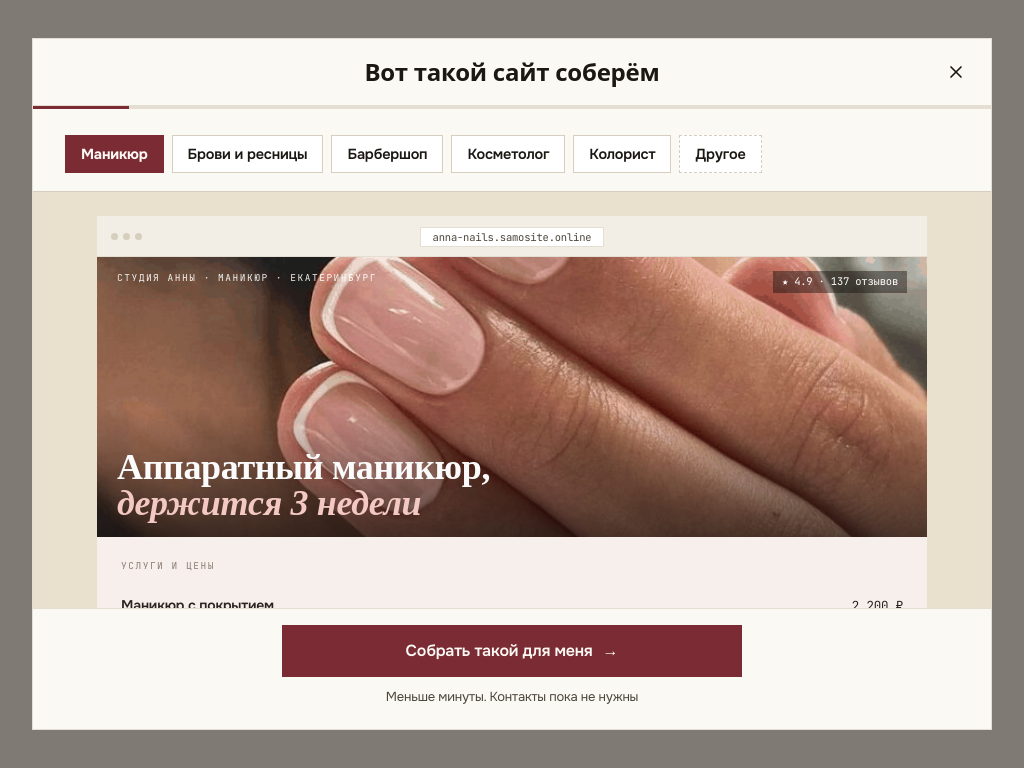
Test: Intake2 — шаг источника › переключение путей сохраняет ввод каждого пути
Click the button "Собрать такой для меня →" at (512,651), box [282,625,742,677]
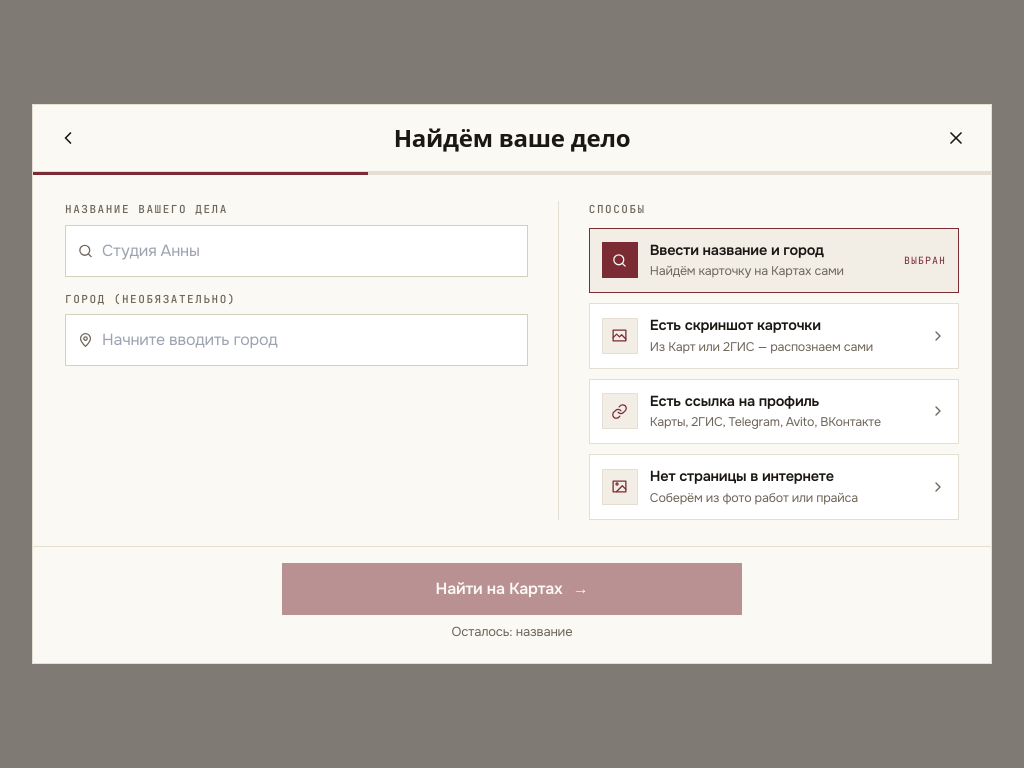
Type "Ноготочки у Ани" into the field with placeholder "Студия Анны" at (296,250), box [65,224,528,276]
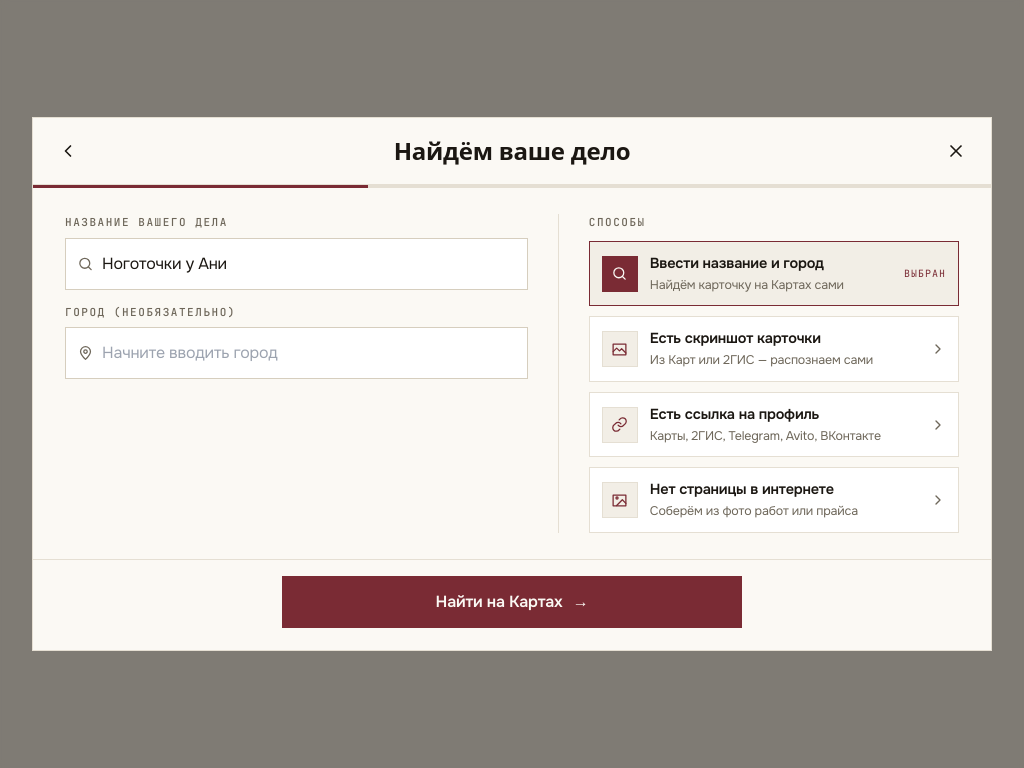
Click the button "Есть ссылка на профиль" at (774,425), box [589,392,959,457]
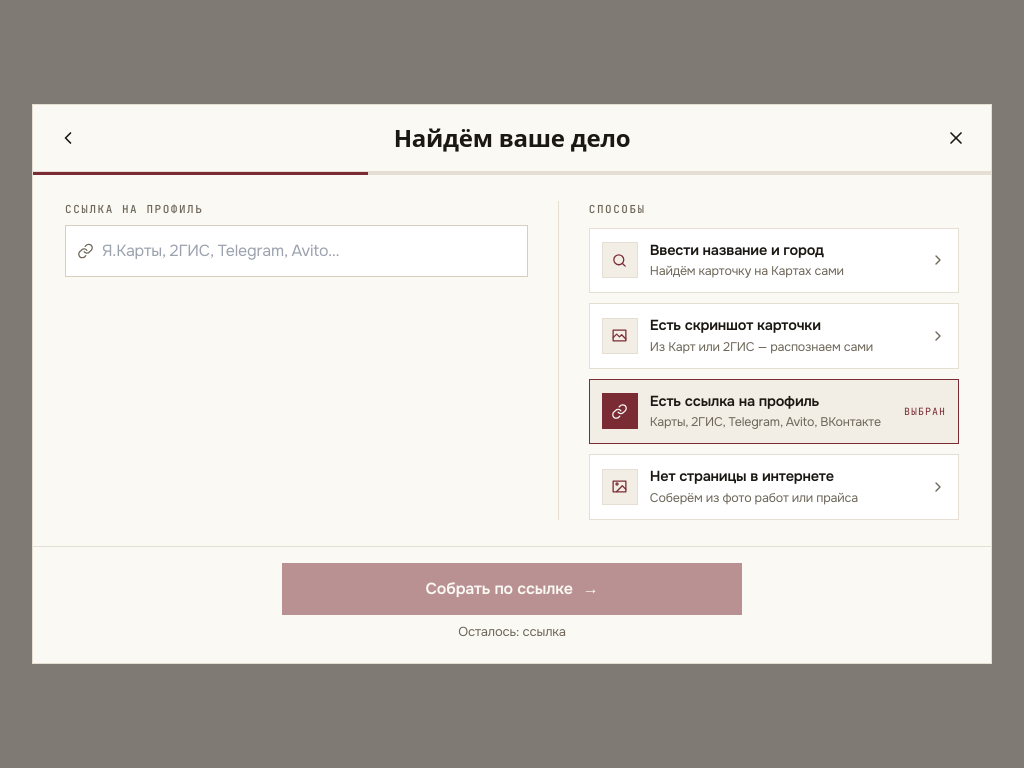
Type "https://yandex.ru/maps/org/1" into the field with placeholder "Я.Карты, 2ГИС, Telegram, Avito…" at (296,250), box [65,224,528,276]
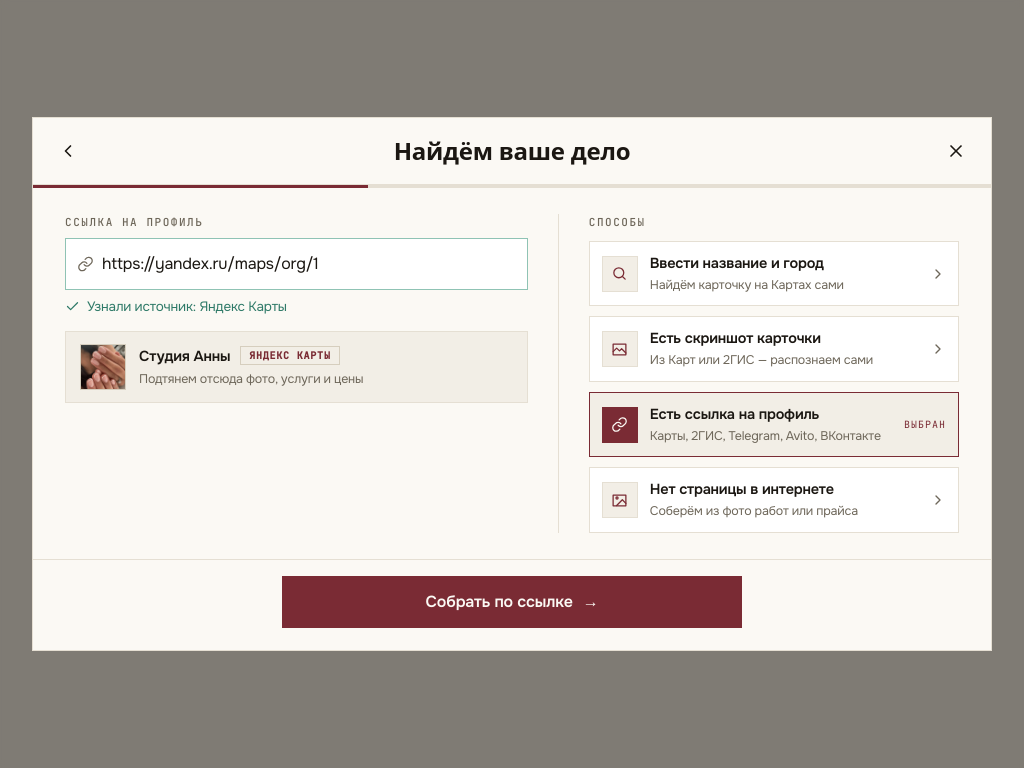
Click the button "Ввести название и город Найдём карточку на Картах сами" at (774,274), box [589,241,959,306]
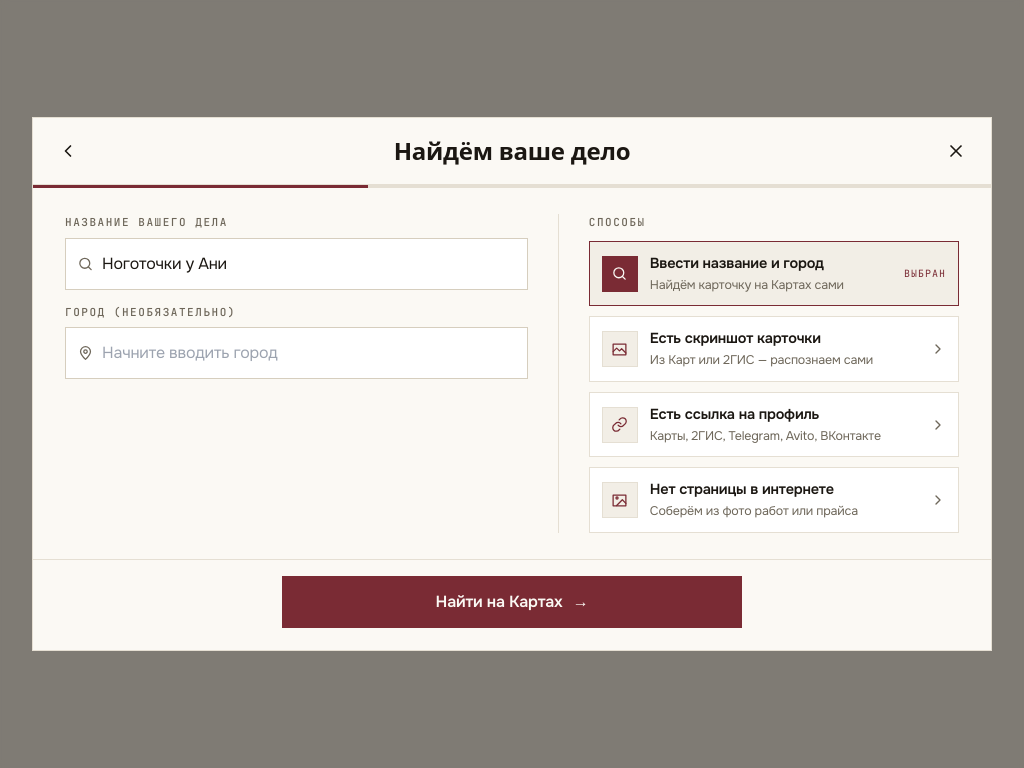
Check: the field with placeholder "Студия Анны" holds "Ноготочки у Ани", box [65,238,528,290]
Click the button "Есть ссылка на профиль" at (774,425), box [589,392,959,457]
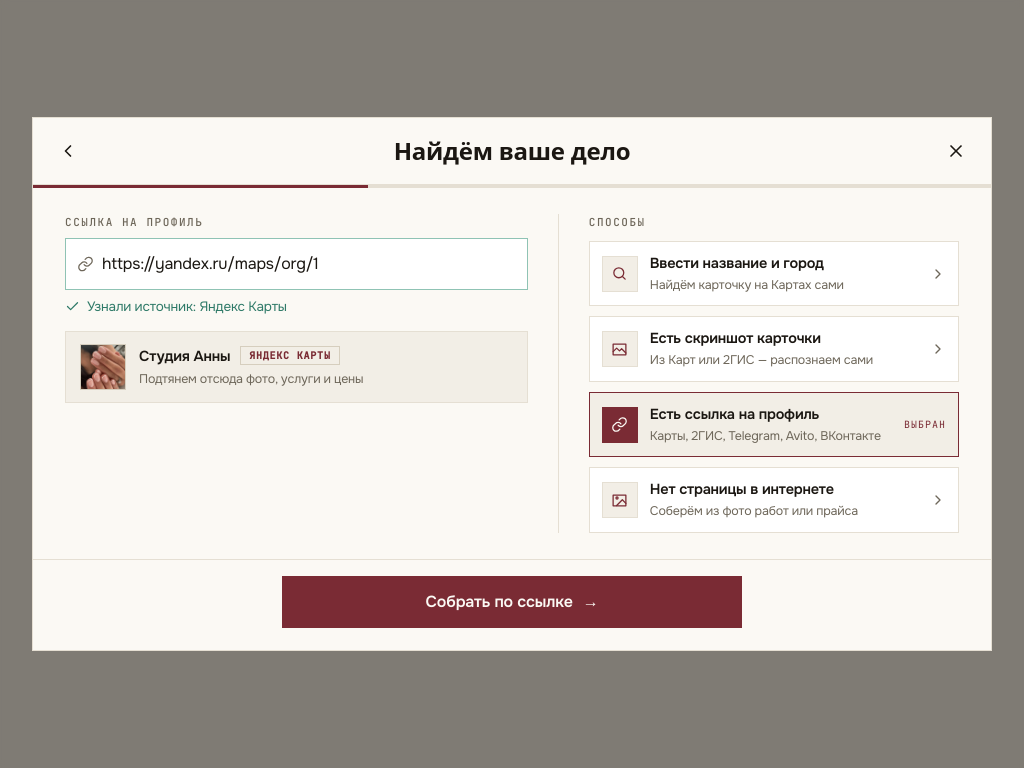
Check: the field with placeholder "Я.Карты, 2ГИС, Telegram, Avito…" holds "https://yandex.ru/maps/org/1", box [65,238,528,290]
